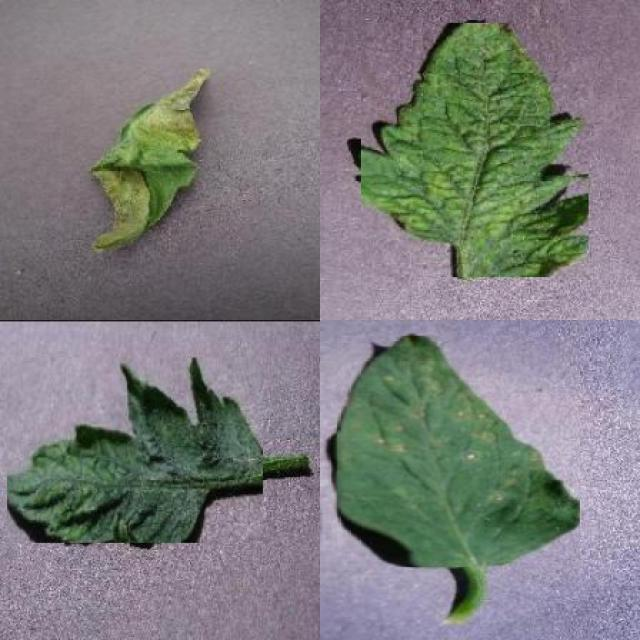Late Blight: (91, 73, 209, 253)
Mosaic Virus: (360, 22, 589, 278), (7, 357, 263, 543)
Septoria: (337, 336, 580, 568)
